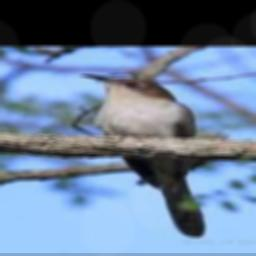Cuckoo: (79, 74, 207, 237)
